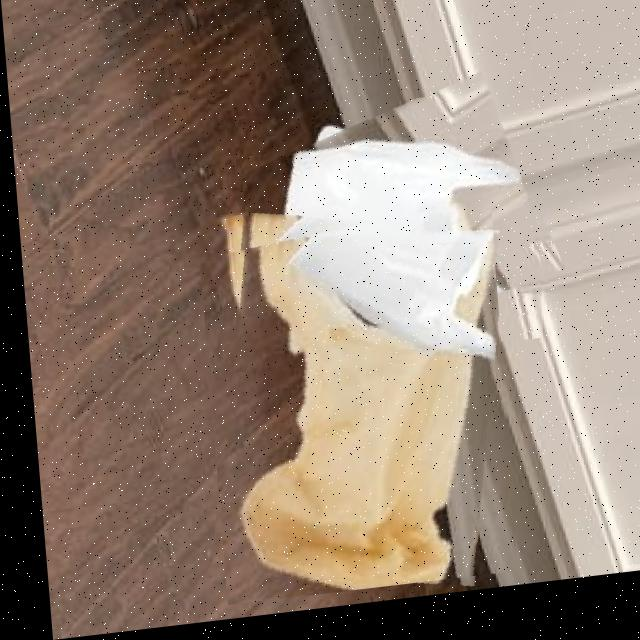plasticcover: (192, 208, 509, 610), (234, 97, 550, 377)
